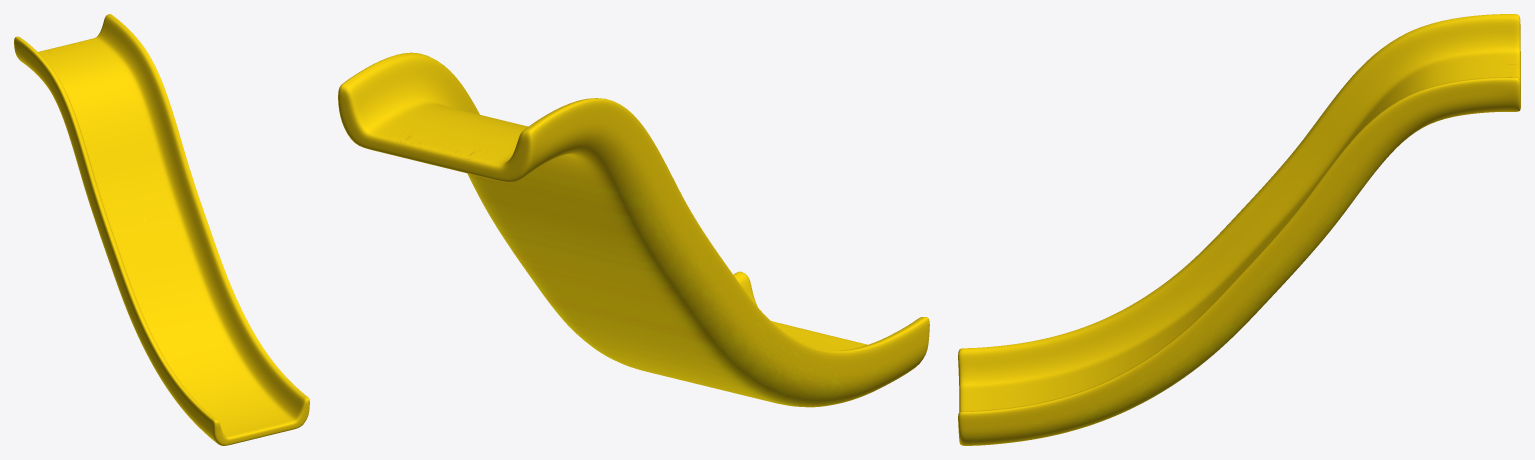
Rendered from res.obj.
3 renders of one model, left to right at view 1: azimuth 30°, elevation 25°; view 2: azimuth 150°, elevation 25°; view 3: azimuth 270°, elevation 25°, orthographic. The views are drawn at different scales.
Visible parts, largest first — view 1: Slide; view 2: Slide; view 3: Slide.
Boxes of the visible parts, <box> form: Slide: <box>14,14,309,445</box>; Slide: <box>338,52,929,407</box>; Slide: <box>958,14,1520,445</box>.
Size of the model in its own units: 64.34 by 169 by 230.
1 material, 1 textured.
